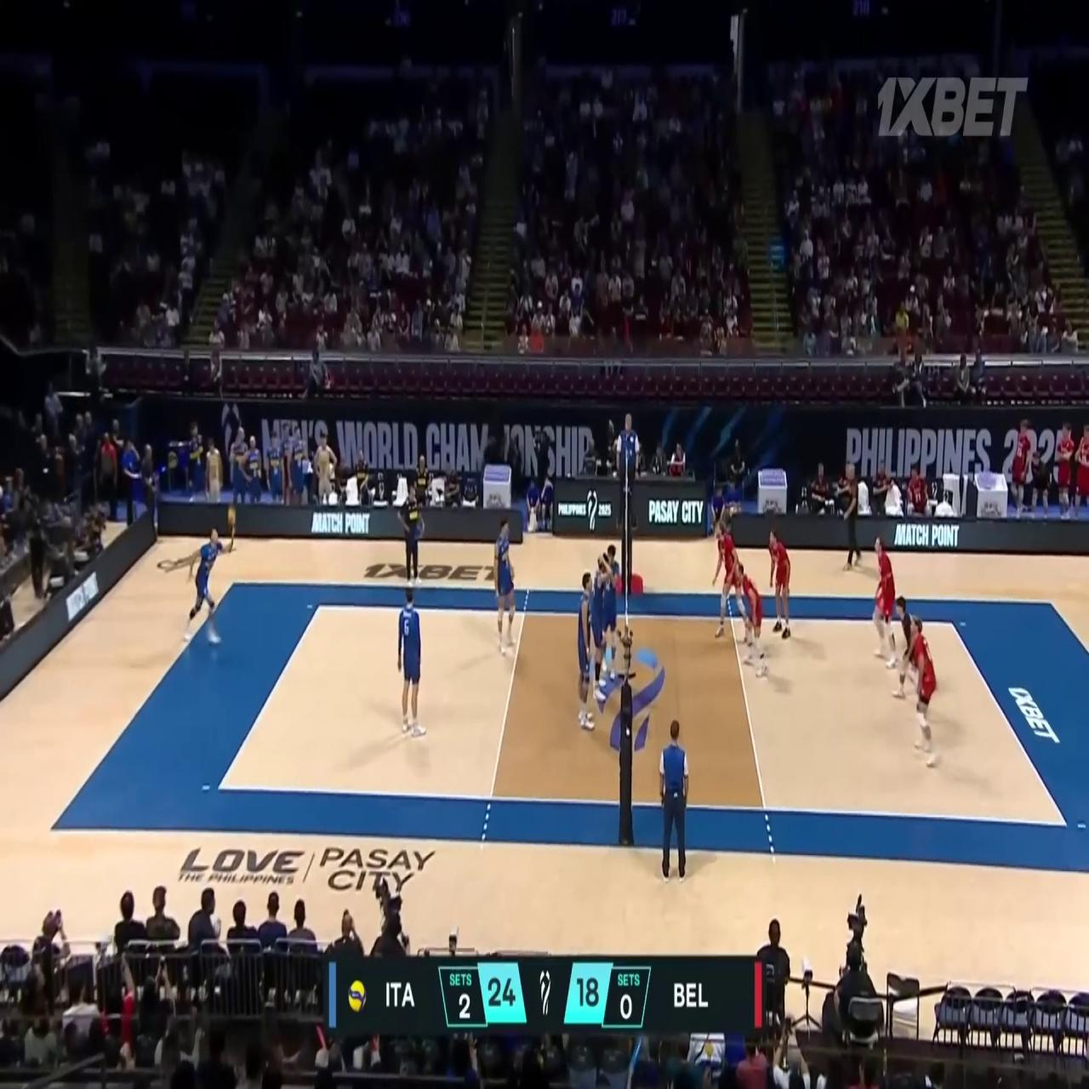ball: (229, 508, 236, 525)
